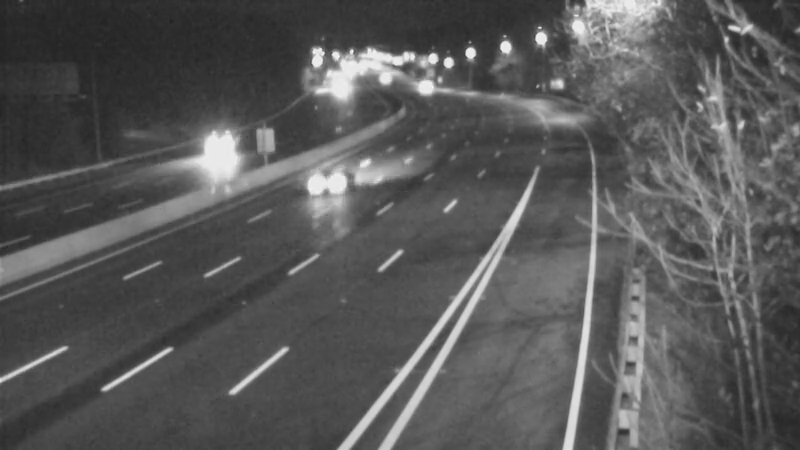vehicle: (292, 146, 372, 226), (399, 63, 449, 113), (192, 123, 242, 173)
